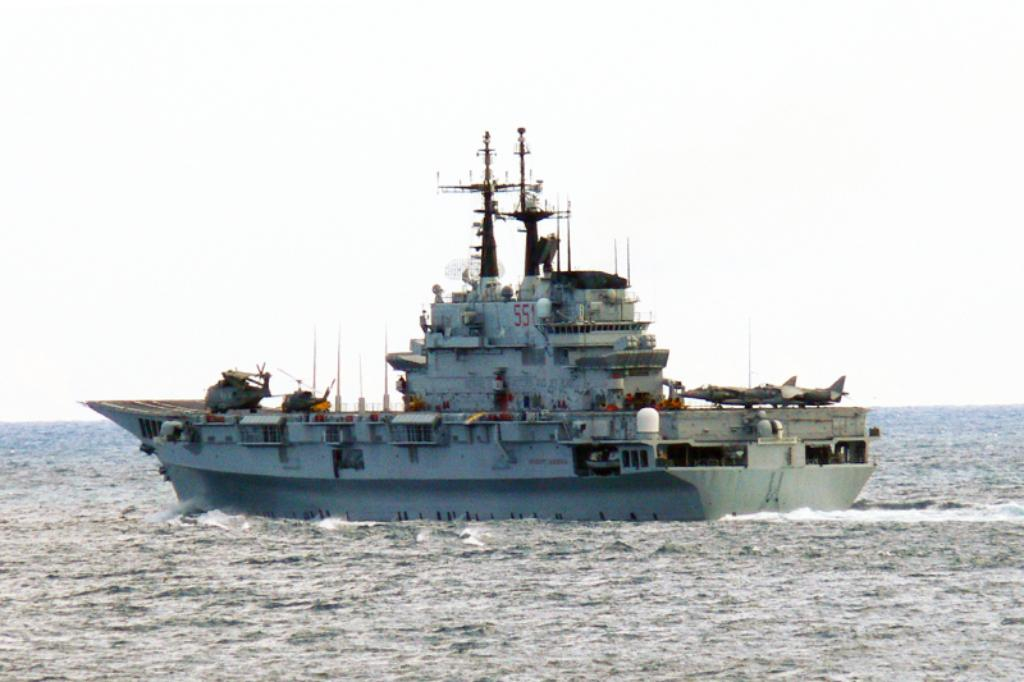Warship: (76, 126, 882, 524)
